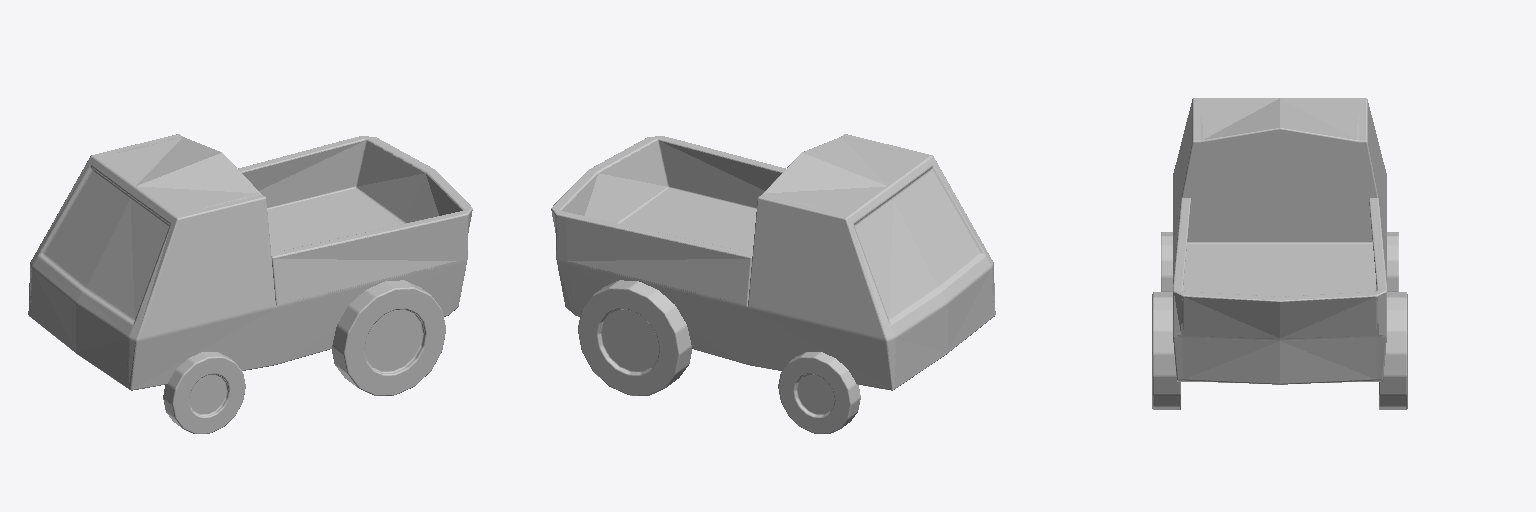
Rendered from WarExplorer 1.obj.
The picture shows the model from 3 angles: view 1: azimuth 30°, elevation 25°; view 2: azimuth 150°, elevation 25°; view 3: azimuth 270°, elevation 25°; orthographic projection.
Parts seen in each view (by area): view 1: Cube; view 2: Cube; view 3: Cube.
Boxes of the visible parts, x1,y1,x2,y2 form: Cube: [28, 134, 472, 433]; Cube: [551, 134, 995, 433]; Cube: [1152, 98, 1407, 409].
Bounding box in the file's own units: 2.92 × 1.73 × 1.79.